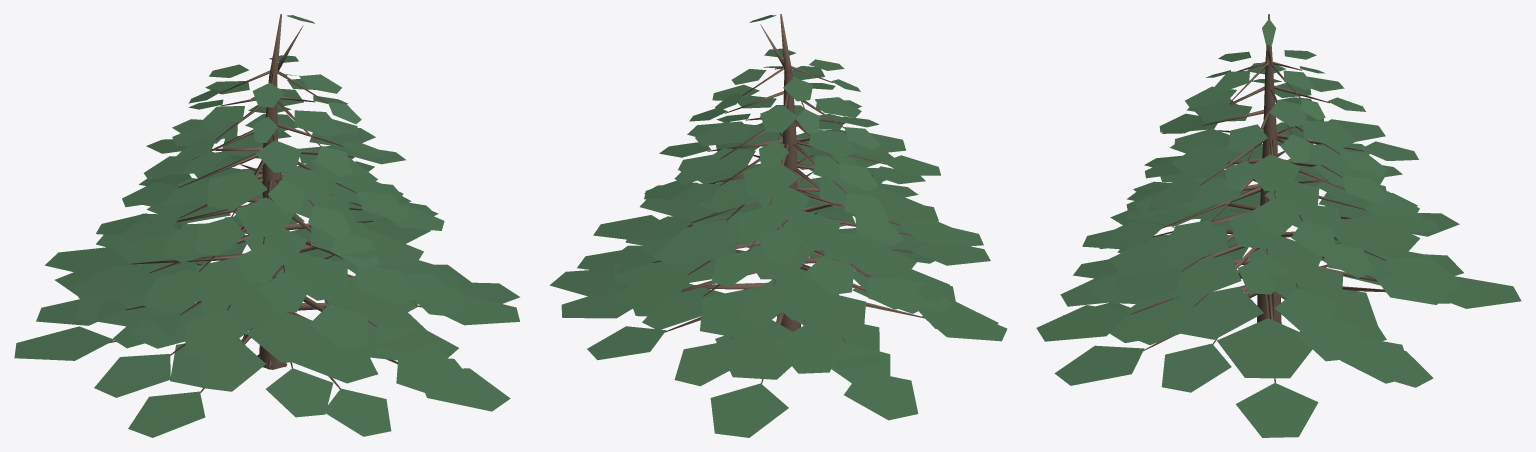
Rendered from hemlock-young-lod2.glb.
3 views of the same model, side by side, from view 1: azimuth 30°, elevation 25°; view 2: azimuth 150°, elevation 25°; view 3: azimuth 270°, elevation 25° (orthographic). The views are drawn at different scales.
Parts seen in each view (by area): view 1: tree_hemlock-young_LOD2; view 2: tree_hemlock-young_LOD2; view 3: tree_hemlock-young_LOD2.
Boxes of the visible parts, box(x1,y1,x2,y2) form: tree_hemlock-young_LOD2: box(14, 14, 520, 437); tree_hemlock-young_LOD2: box(549, 14, 1007, 437); tree_hemlock-young_LOD2: box(1036, 14, 1521, 437).
Bounding box in the file's own units: 10.04 × 7.51 × 10.18.
